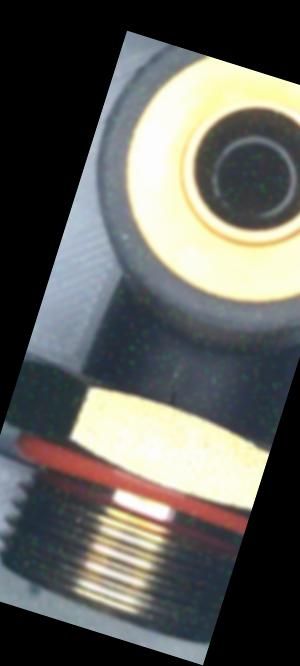craze: (158, 369, 189, 413)
